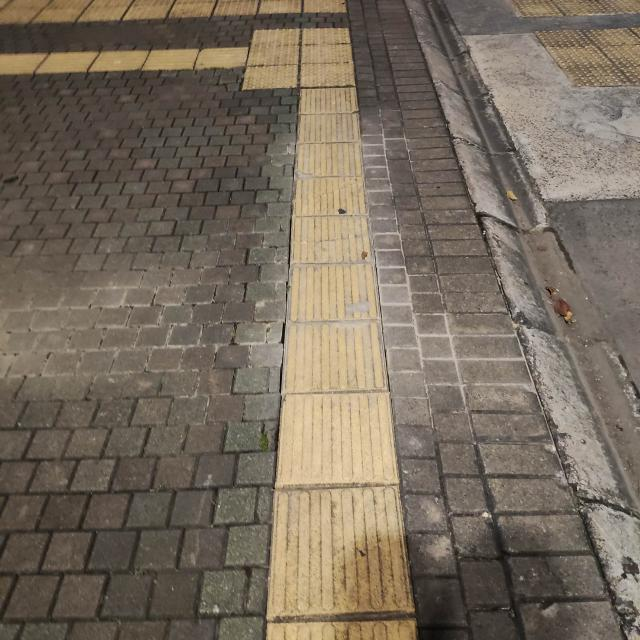kiri: (164, 28, 376, 120)
